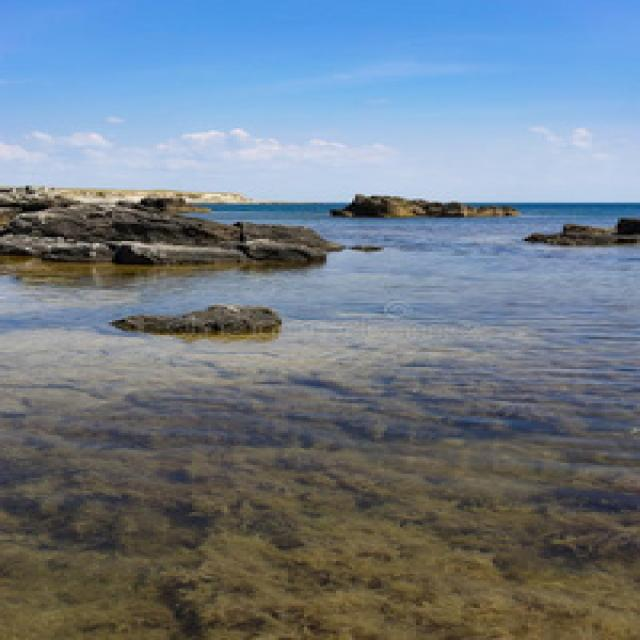reef: (92, 198, 625, 266)
